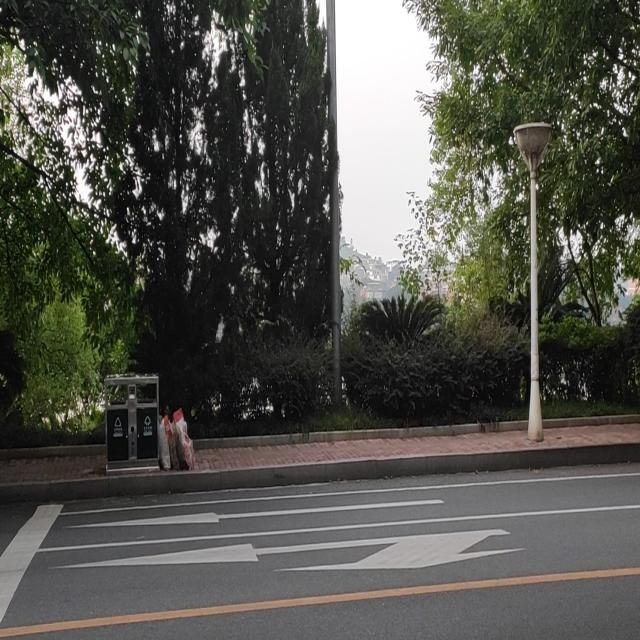ash bin: (100, 374, 162, 476)
pole: (322, 3, 346, 395), (525, 168, 543, 431)
